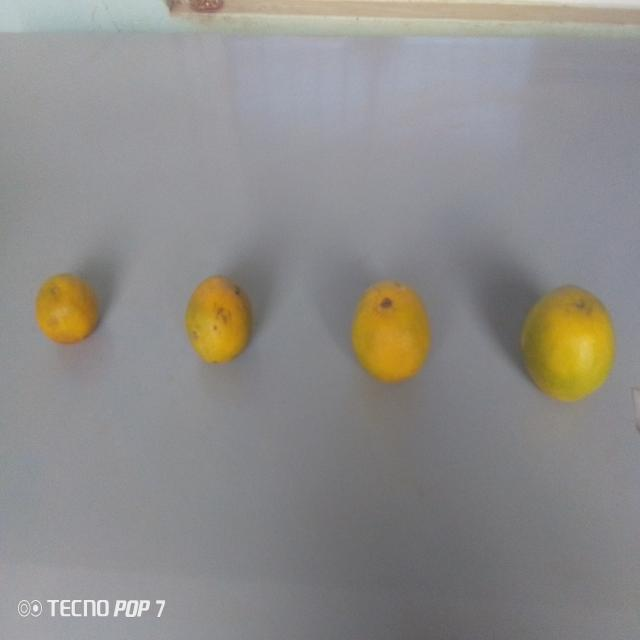Ripe orange: (514, 278, 620, 408), (345, 275, 433, 388), (26, 269, 111, 345), (182, 274, 251, 364)
